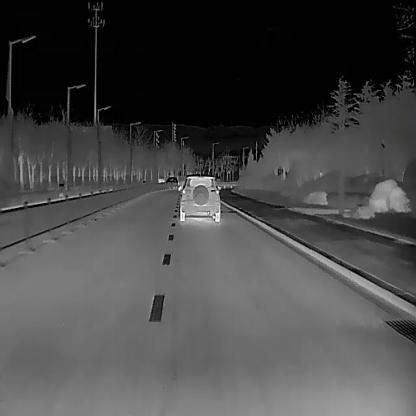car: (178, 175, 220, 221), (165, 176, 178, 190), (158, 176, 165, 182)
